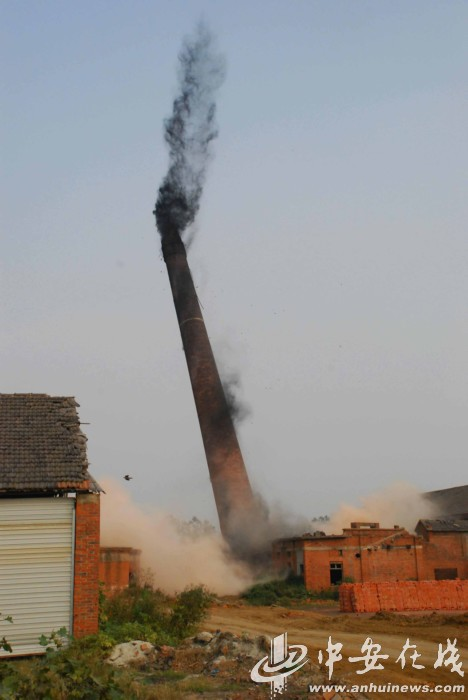dust: (142, 41, 245, 238)
